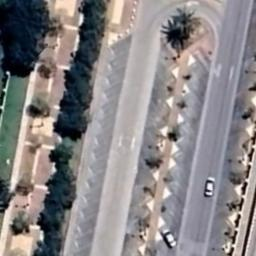sedan: (160, 225, 180, 248), (203, 175, 218, 199)
